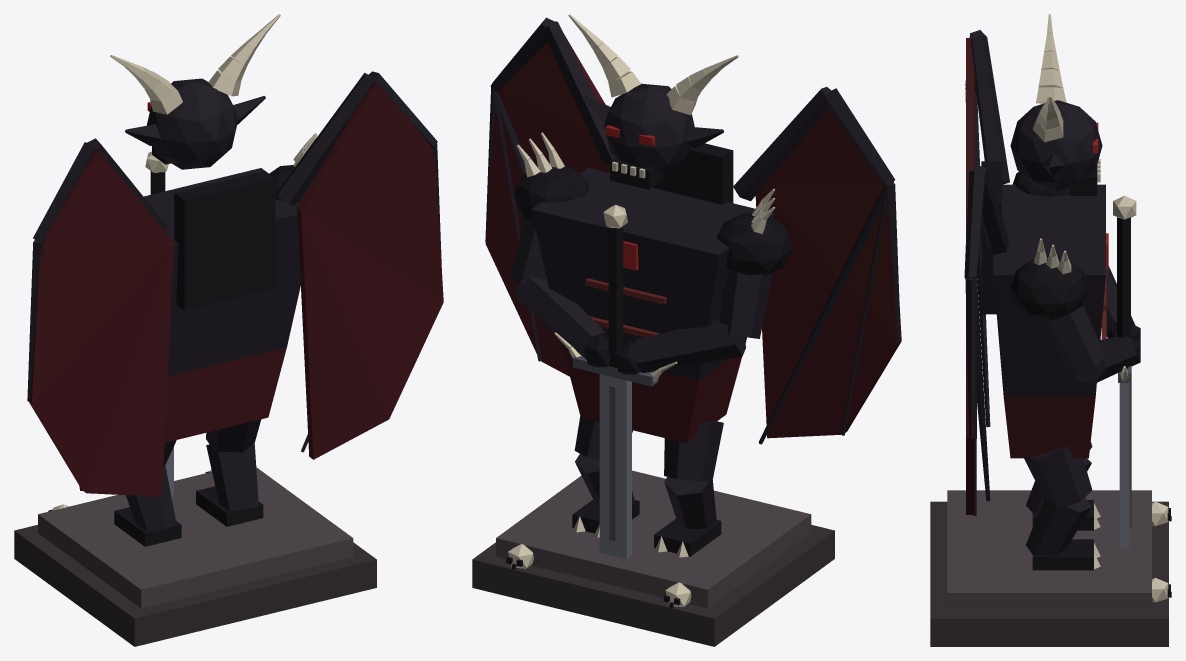
The model's file is Decor_HellGate_DemonStatue.fbx.
3 views of the same model, side by side, from view 1: azimuth 30°, elevation 25°; view 2: azimuth 150°, elevation 25°; view 3: azimuth 270°, elevation 25° (orthographic).
Visible parts, largest first — view 1: DemonStatue_Body; view 2: DemonStatue_Body; view 3: DemonStatue_Body.
Part boxes in pixels (x1,y1,x2,y2): DemonStatue_Body: [14, 14, 443, 646]; DemonStatue_Body: [472, 14, 901, 646]; DemonStatue_Body: [930, 14, 1171, 646].
Size of the model in its own units: 27.59 by 34.18 by 14.
